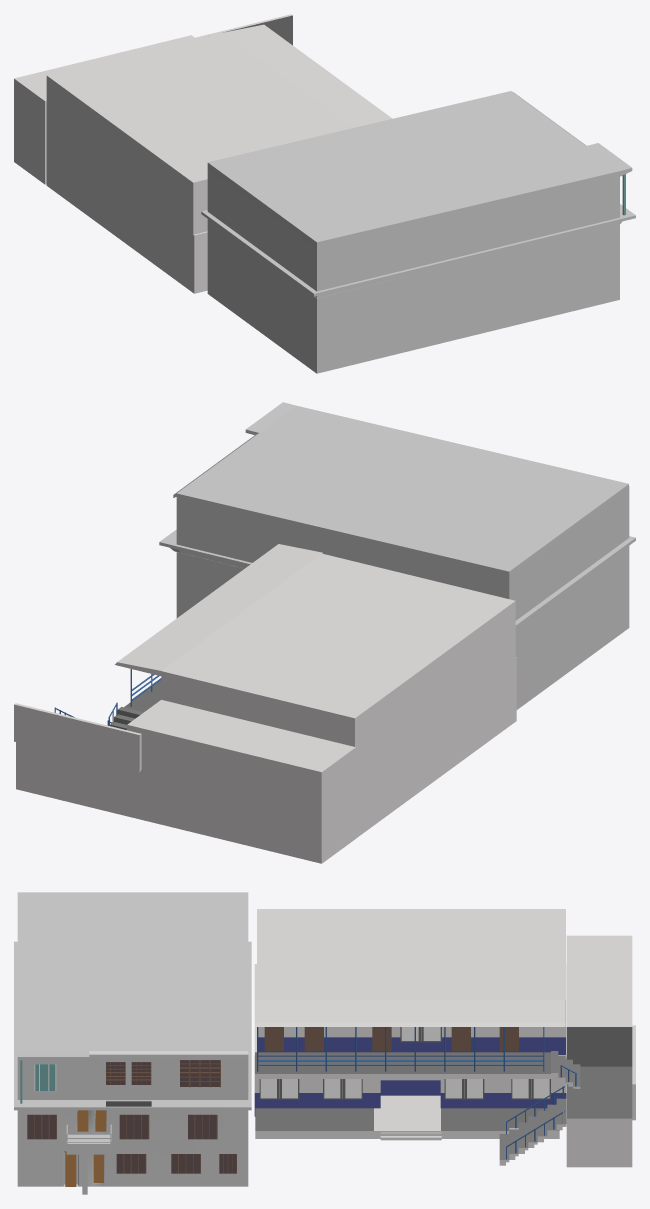
File: londonblock.glb
3 views of the same model, one above another, from view 1: azimuth 30°, elevation 25°; view 2: azimuth 150°, elevation 25°; view 3: azimuth 270°, elevation 25° (orthographic). The views are drawn at different scales.
Parts seen in each view (by area): view 1: polySurface43; view 2: polySurface43; view 3: polySurface43.
Part boxes in pixels (left/top/right/bottom): polySurface43: left=14, top=14, right=635, bottom=373; polySurface43: left=14, top=402, right=635, bottom=863; polySurface43: left=14, top=892, right=635, bottom=1194.
Size of the model in its own units: 21 by 7.96 by 32.18.
